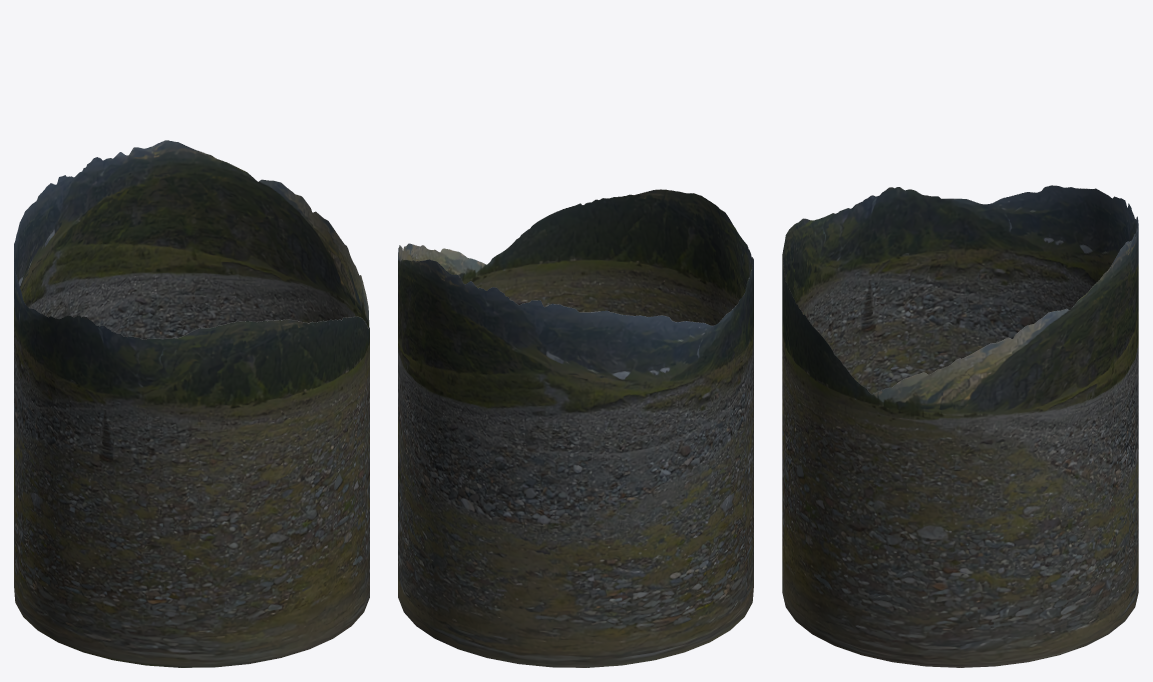
Rendered from Mountains_cut.fbx.
The picture shows the model from 3 angles, left to right: view 1: azimuth 30°, elevation 25°; view 2: azimuth 150°, elevation 25°; view 3: azimuth 270°, elevation 25°; orthographic projection.
Visible parts, largest first — view 1: Cylinder; view 2: Cylinder; view 3: Cylinder.
Part boxes in pixels (<box>): Cylinder: <box>14,140,369,667</box>; Cylinder: <box>398,189,753,667</box>; Cylinder: <box>782,185,1138,667</box>.
Size of the model in its own units: 200 by 312 by 200.
1 material, 1 textured.
